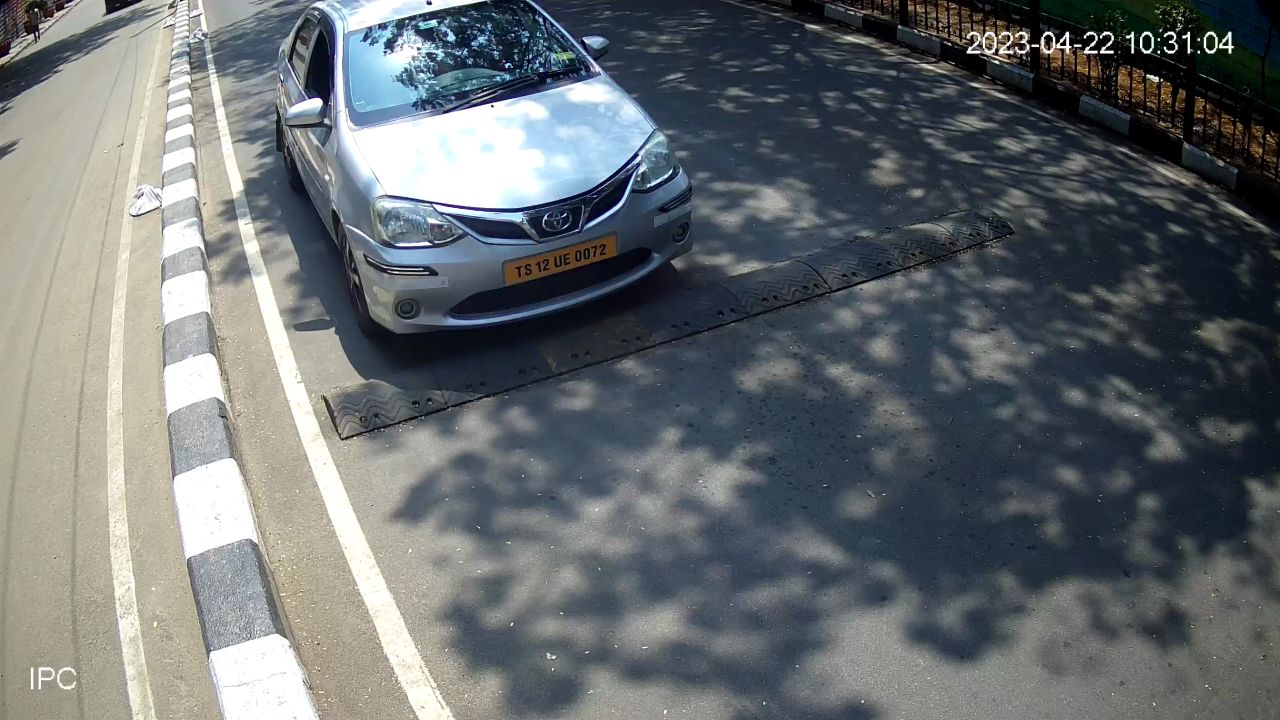license_plate: (498, 226, 623, 294)
